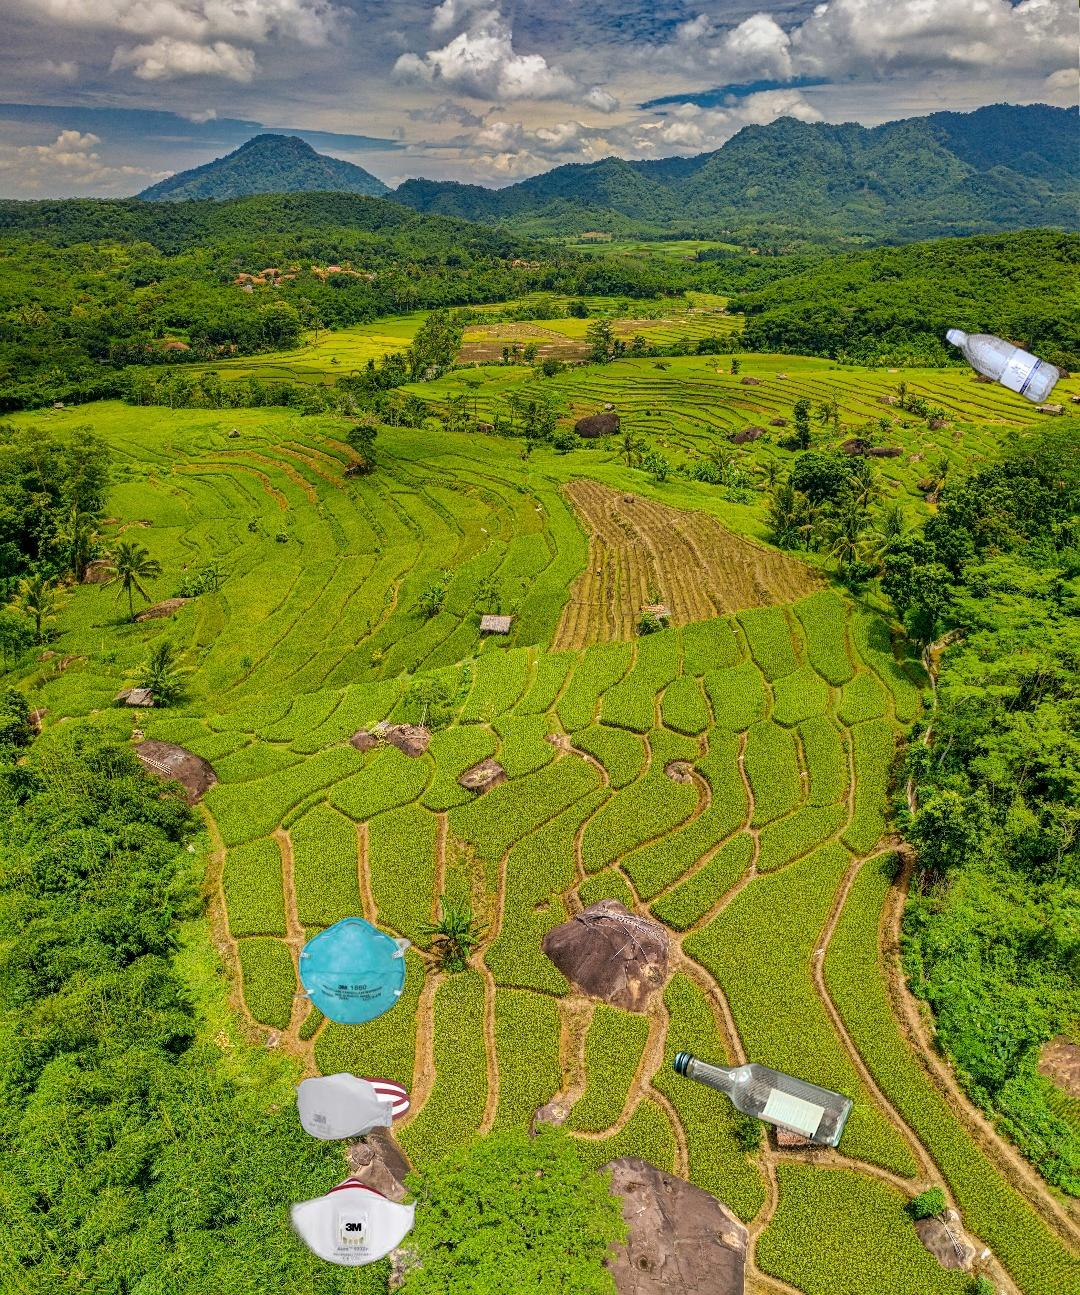glass: (669, 1045, 858, 1153)
plastic-bottles: (941, 321, 1064, 409)
trash: (283, 913, 420, 1268)
